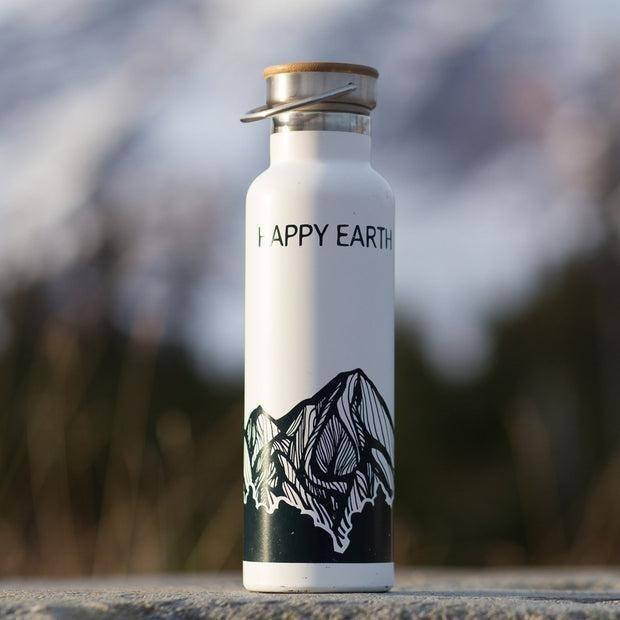gym bottle: (239, 59, 400, 599)
